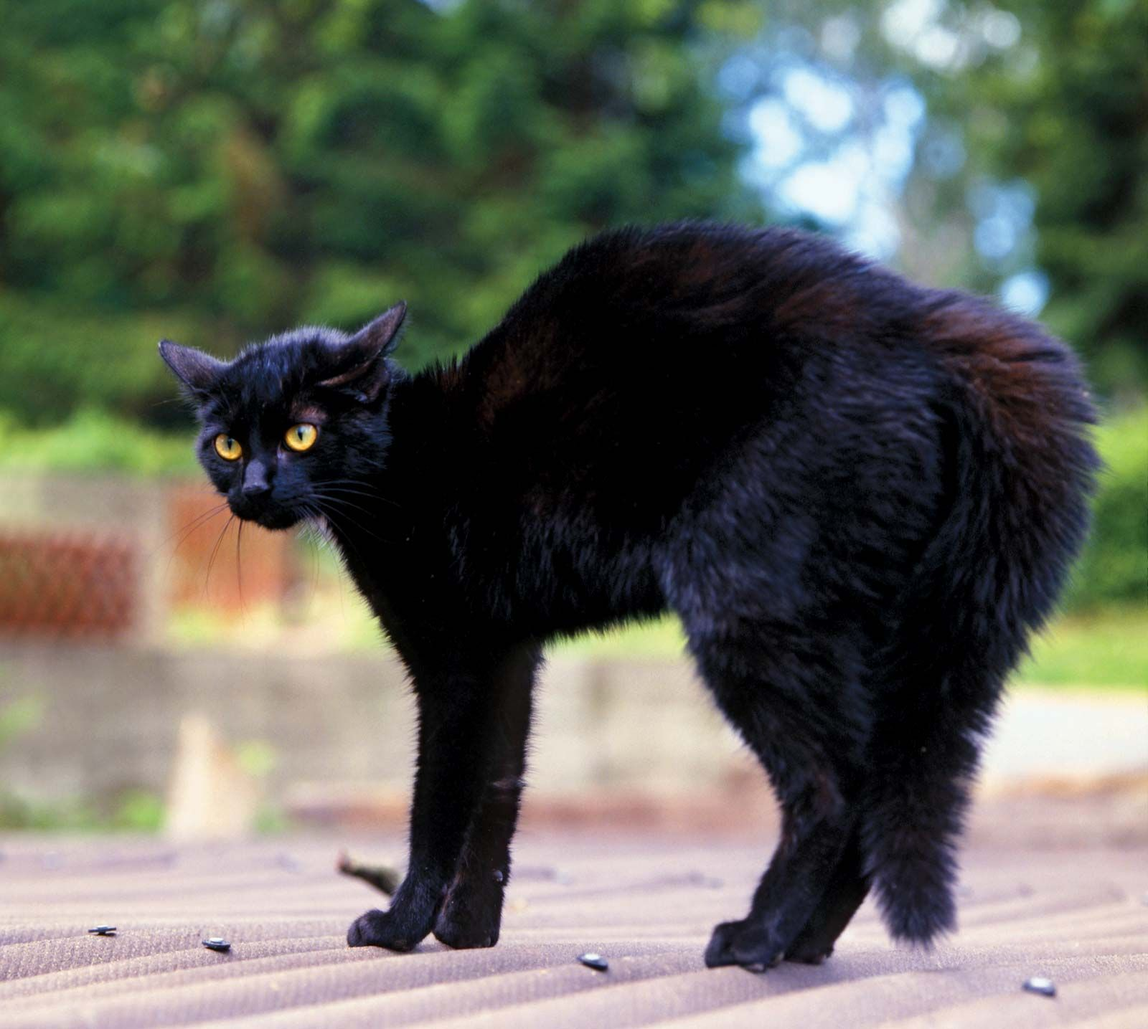Cat: (136, 208, 1116, 978)
